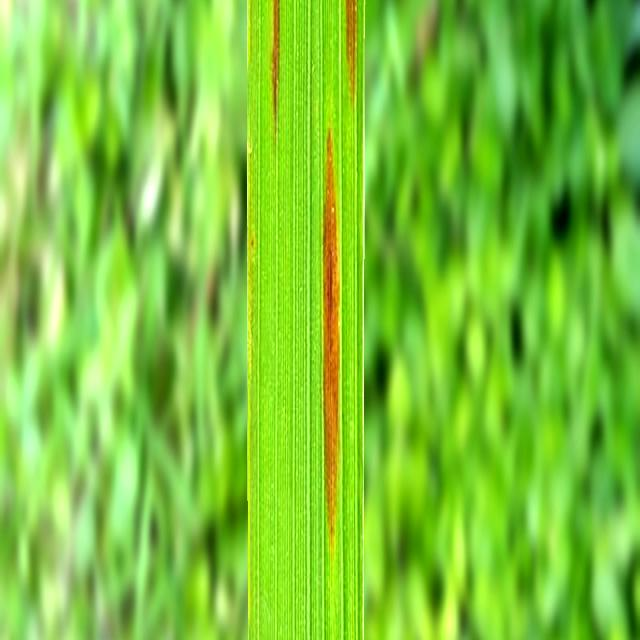NBS: (323, 128, 340, 547), (271, 0, 280, 118), (345, 0, 356, 96)
